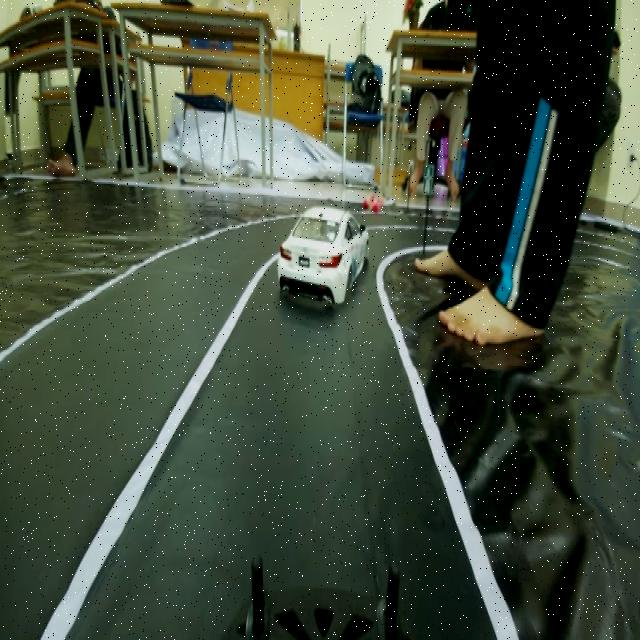car: (280, 195, 373, 310)
